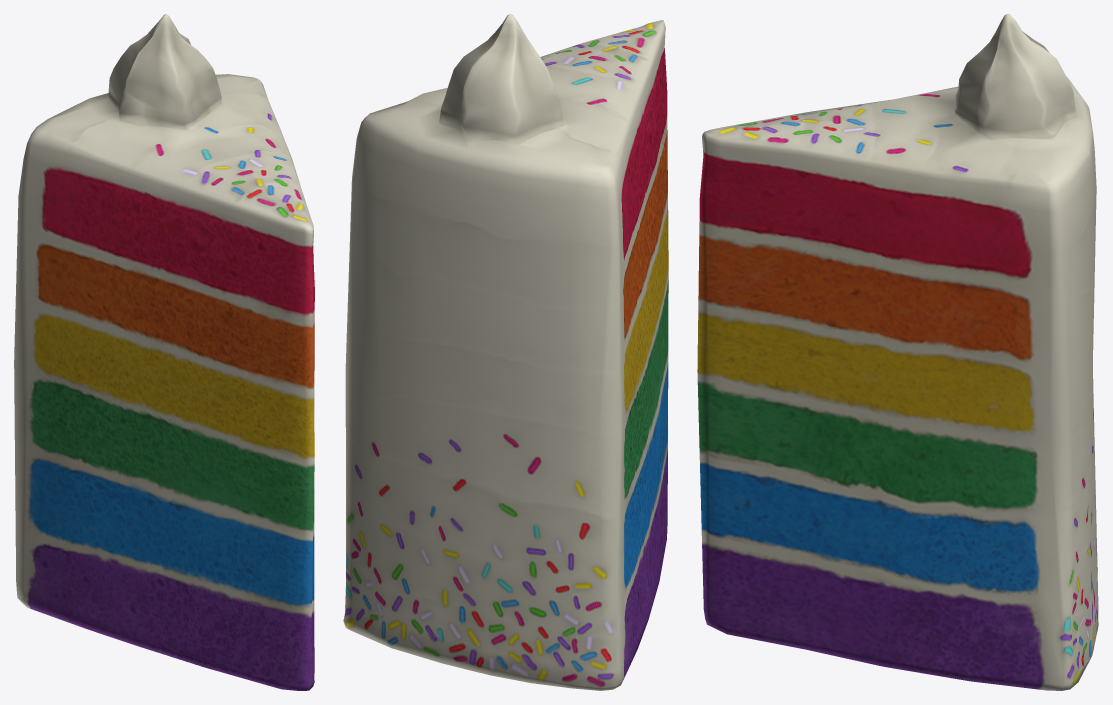
The model's file is Cake_rainbow.fbx.
3 views of the same model, side by side, from view 1: azimuth 30°, elevation 25°; view 2: azimuth 150°, elevation 25°; view 3: azimuth 270°, elevation 25° (orthographic). The views are drawn at different scales.
Parts seen in each view (by area): view 1: CakeSliceRainbow010; view 2: CakeSliceRainbow010; view 3: CakeSliceRainbow010.
Boxes of the visible parts, left/top/right/bottom form: CakeSliceRainbow010: left=14, top=14, right=314, bottom=690; CakeSliceRainbow010: left=343, top=14, right=668, bottom=690; CakeSliceRainbow010: left=697, top=14, right=1098, bottom=690.
Size of the model in its own units: 0.9138 by 2 by 1.18.
